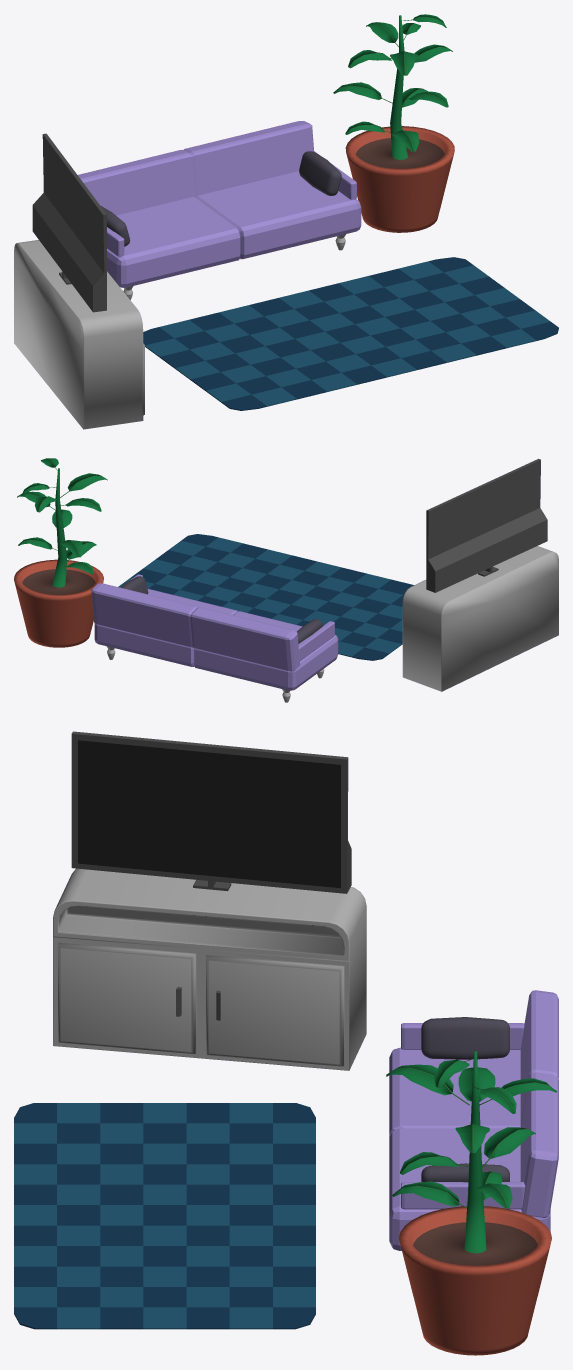
The model's file is RobberRoomEnvironment.fbx.
The picture shows the model from 3 angles, top to bottom: view 1: azimuth 30°, elevation 25°; view 2: azimuth 150°, elevation 25°; view 3: azimuth 270°, elevation 25°; orthographic projection. The views are drawn at different scales.
Visible parts, largest first — view 1: Hali, Sofa, TVunit, Saksi, TV; view 2: Hali, Sofa, TVunit, TV, Saksi; view 3: Hali, TVunit, TV, Saksi, Sofa.
Boxes of the visible parts, left/top/right/bottom form: Hali: left=143, top=257, right=558, bottom=410; Sofa: left=78, top=121, right=361, bottom=299; TVunit: left=14, top=240, right=144, bottom=429; Saksi: left=333, top=14, right=454, bottom=232; TV: left=32, top=133, right=106, bottom=312; Hali: left=118, top=534, right=413, bottom=660; Sofa: left=91, top=574, right=338, bottom=702; TVunit: left=402, top=546, right=558, bottom=691; TV: left=426, top=458, right=547, bottom=592; Saksi: left=14, top=458, right=107, bottom=647; Hali: left=14, top=1103, right=315, bottom=1329; TVunit: left=53, top=868, right=366, bottom=1070; TV: left=71, top=731, right=351, bottom=893; Saksi: left=386, top=1050, right=556, bottom=1355; Sofa: left=389, top=990, right=558, bottom=1250.
Size of the model in its own units: 5.49 by 2.19 by 3.61.
